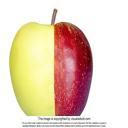apple: (10, 22, 94, 117)
